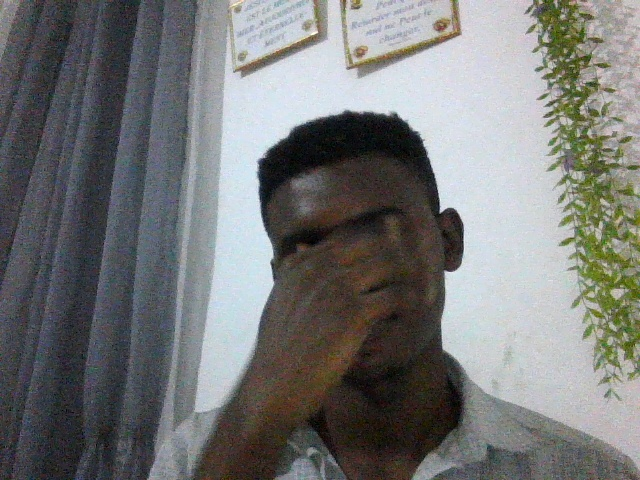hand: (232, 196, 429, 459)
